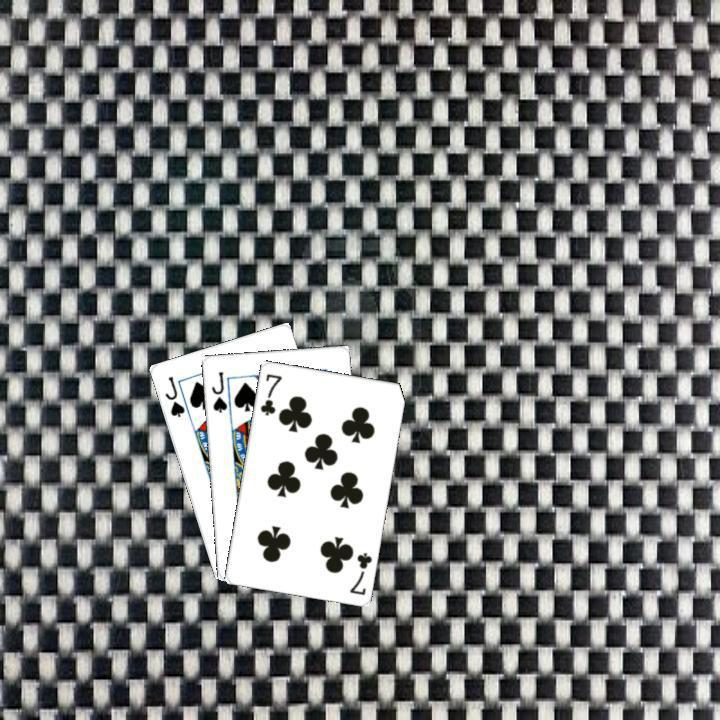7: (345, 548, 373, 597), (256, 369, 284, 417)
J: (160, 372, 186, 419), (207, 367, 228, 414)
